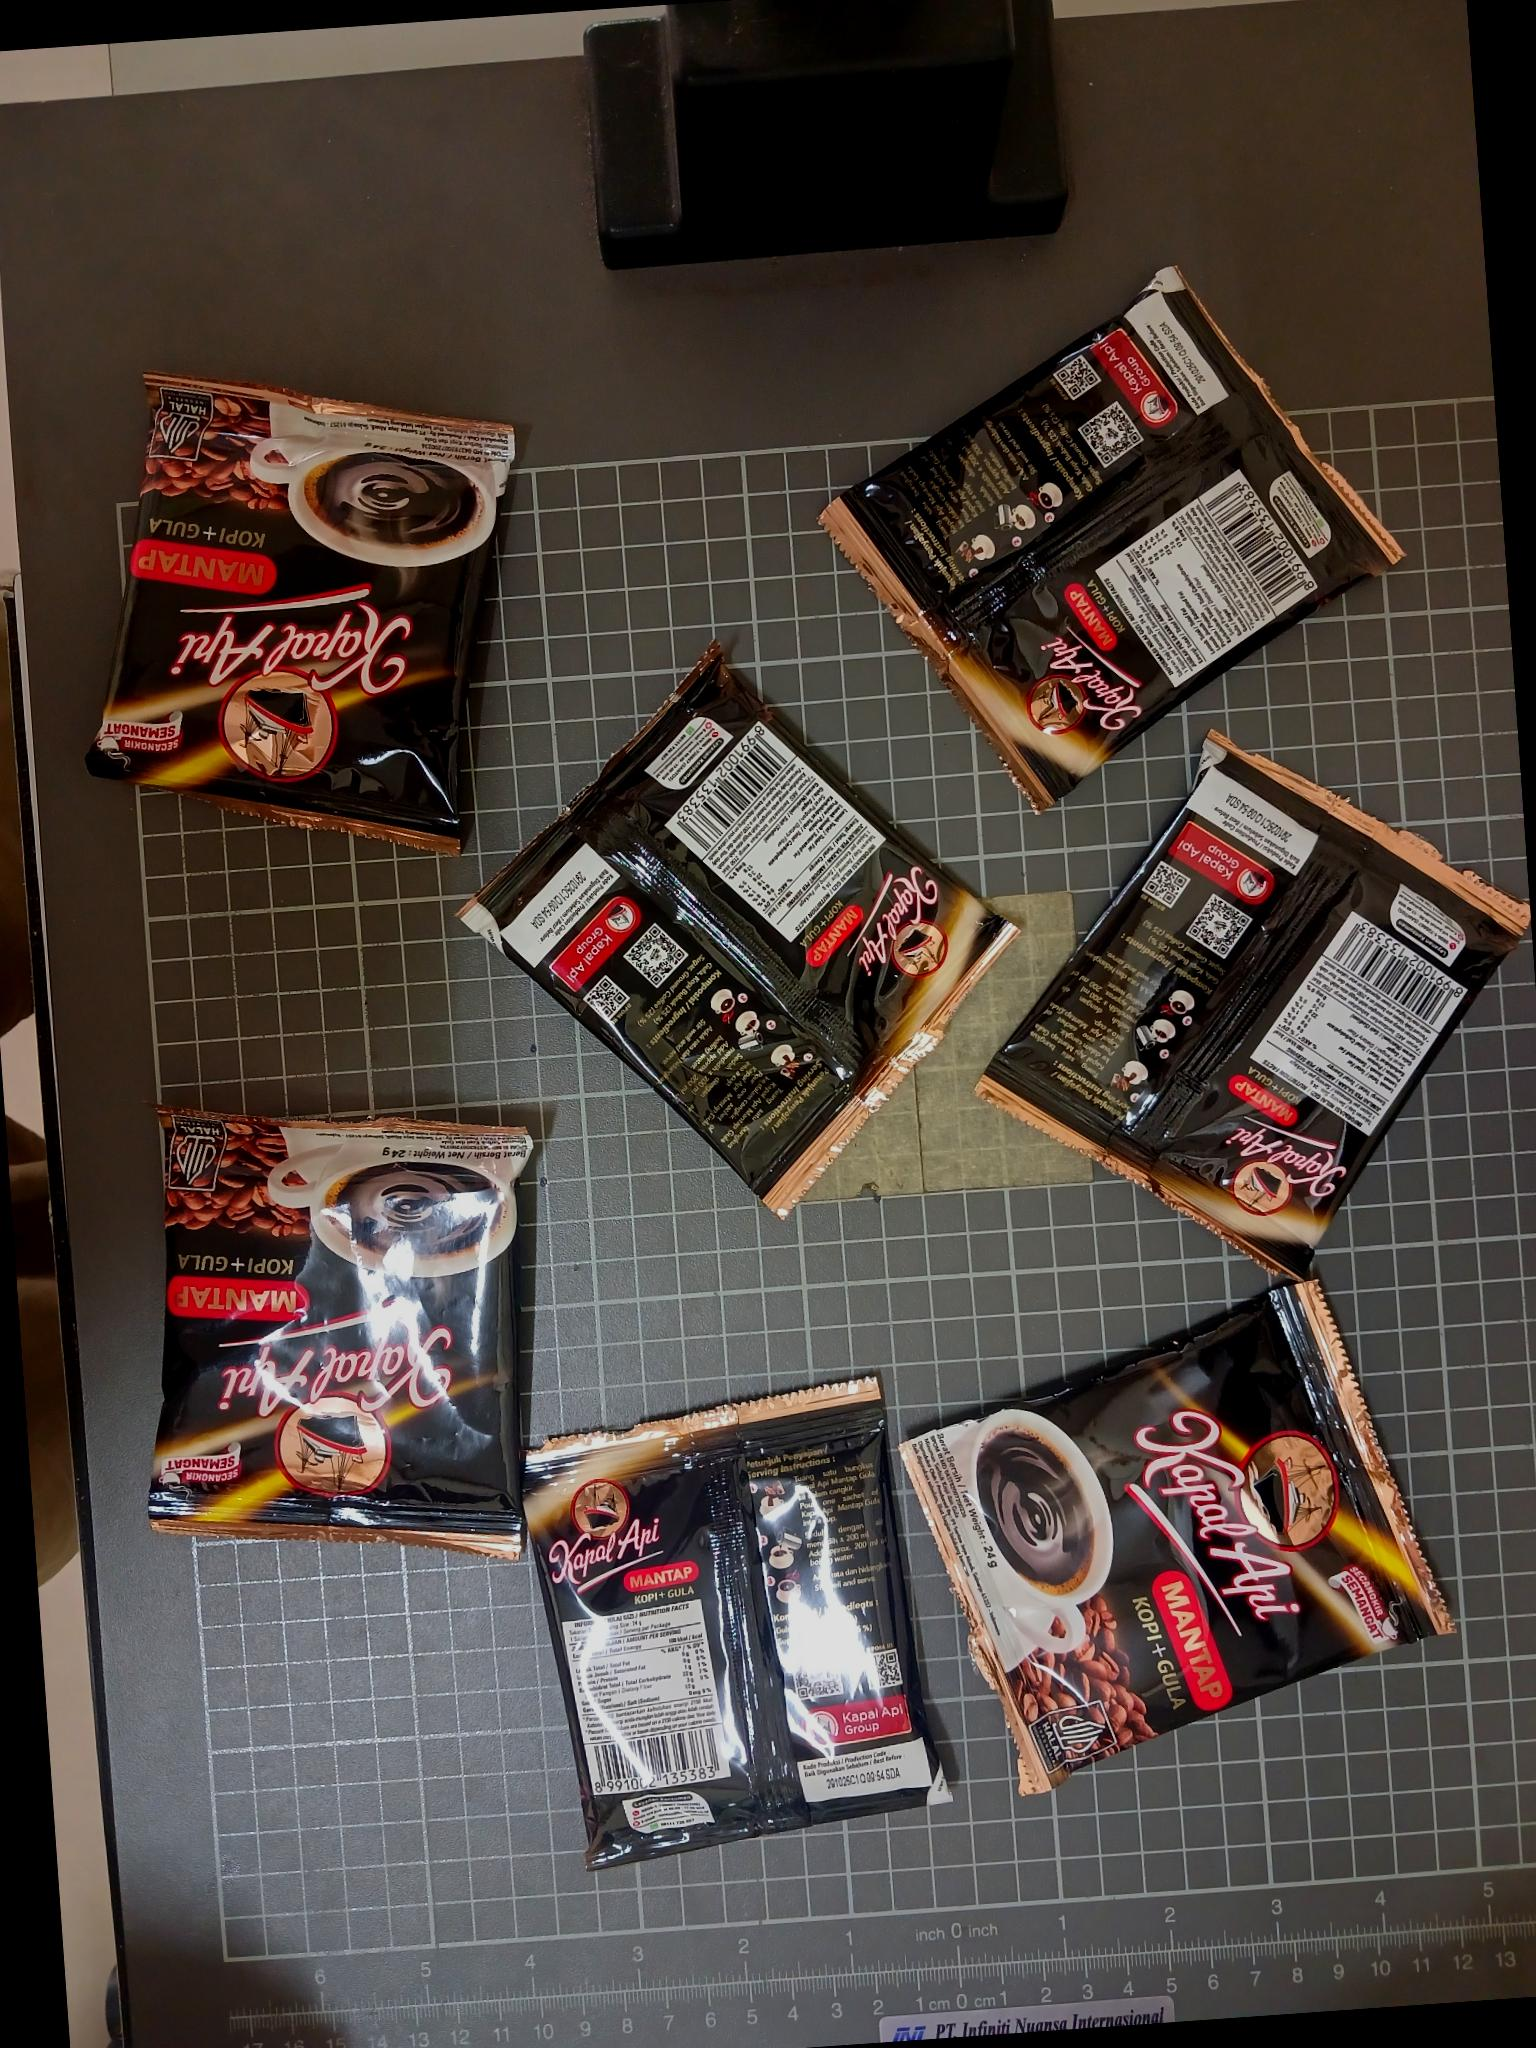back: (452, 637, 1023, 1221), (810, 261, 1405, 819), (970, 718, 1531, 1290), (508, 1374, 955, 1875)
front: (895, 1272, 1460, 1801), (82, 369, 518, 861), (144, 1098, 536, 1559)
